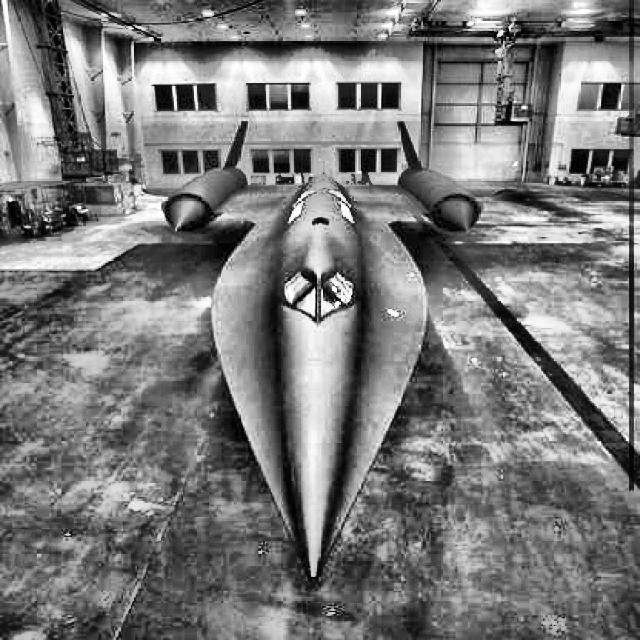SR71: (140, 120, 503, 583)
